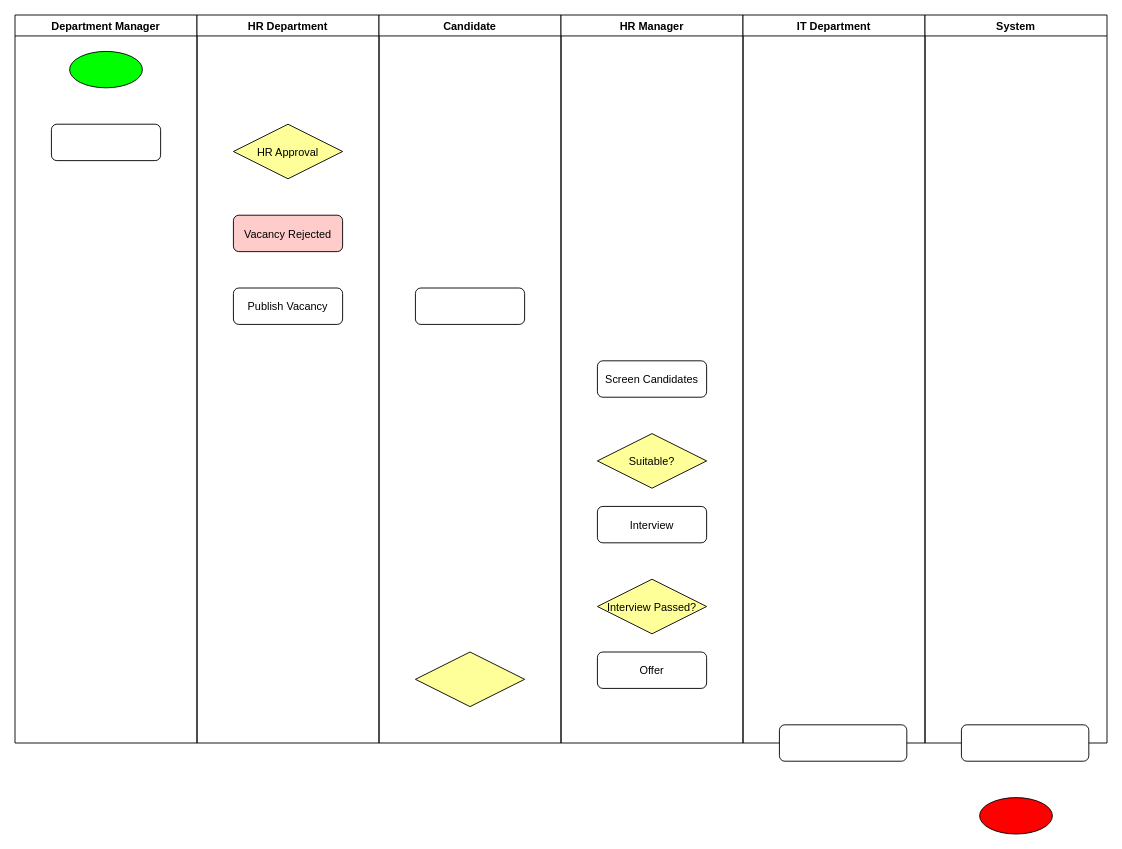
This 1122x849 diagram has some shape labels left out. Each missing label, with the centre of its shape:
Add Employee to System: the point at 1025,742
Candidates Apply: the point at 470,305
Create Vacancy Request: the point at 106,142
End: the point at 1015,815
Offer Confirmed?: the point at 470,679
Prepare Workplace: the point at 843,742
Start: the point at 105,69
